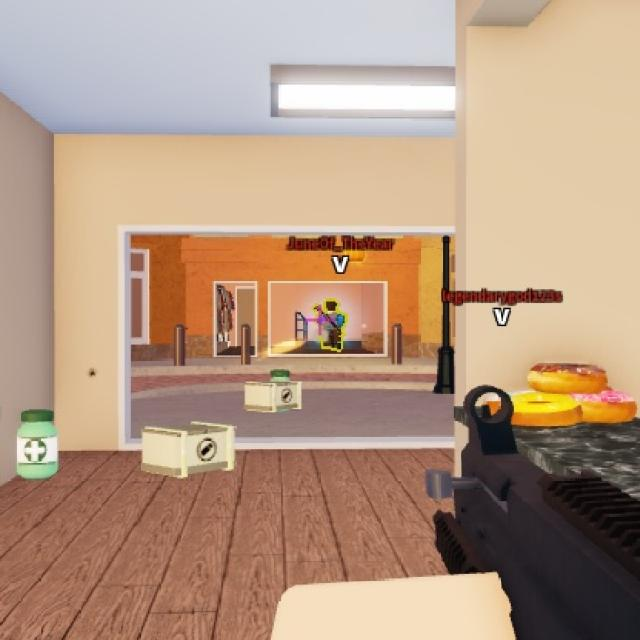player: (317, 300, 349, 347)
